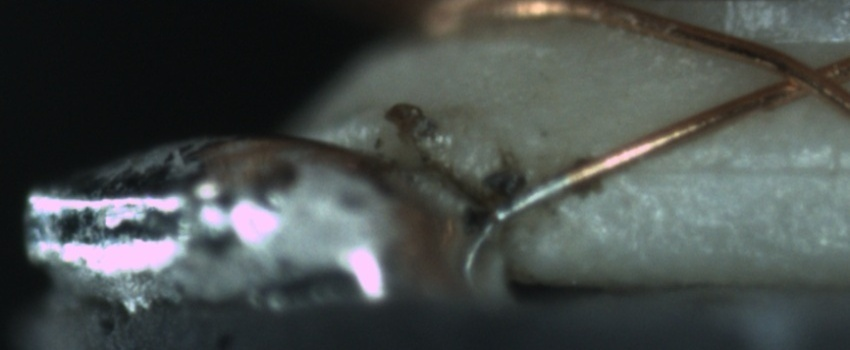CL: (760, 46, 846, 107)
DL: (622, 134, 850, 205)
TS: (488, 173, 568, 232)
